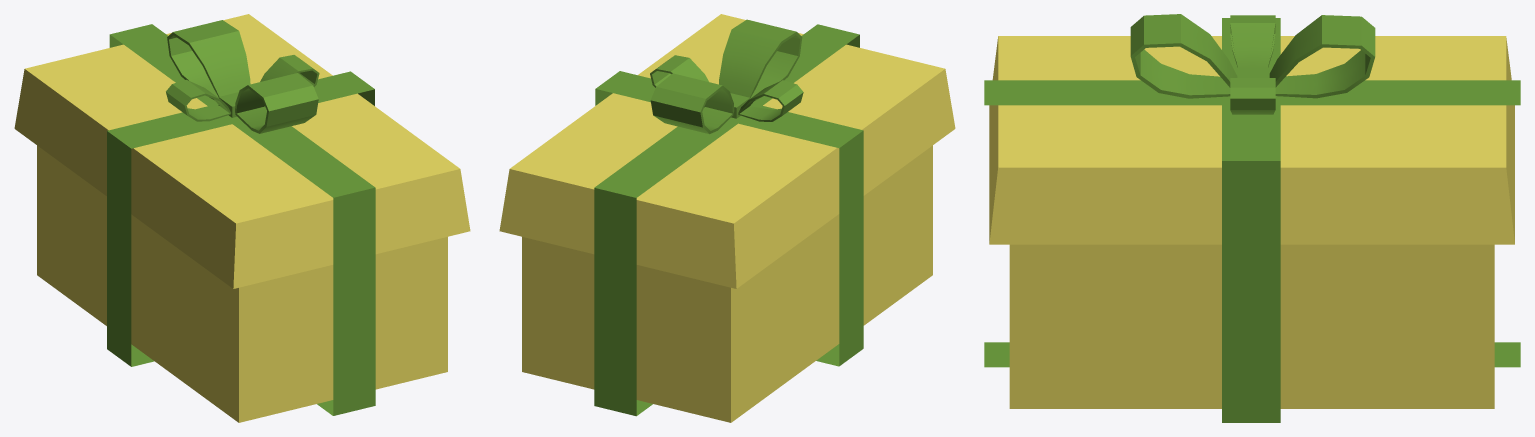
Rendered from M_Gift_07.FBX.
The picture shows the model from 3 angles, left to right: view 1: azimuth 30°, elevation 25°; view 2: azimuth 150°, elevation 25°; view 3: azimuth 270°, elevation 25°; orthographic projection. The views are drawn at different scales.
Visible parts, largest first — view 1: Object005; view 2: Object005; view 3: Object005.
Boxes of the visible parts, box(x1,y1,x2,y2) form: Object005: box(14, 14, 470, 422); Object005: box(499, 14, 955, 422); Object005: box(984, 14, 1520, 422).
Size of the model in its own units: 51.81 by 55.24 by 82.24.
1 material, 1 textured.
